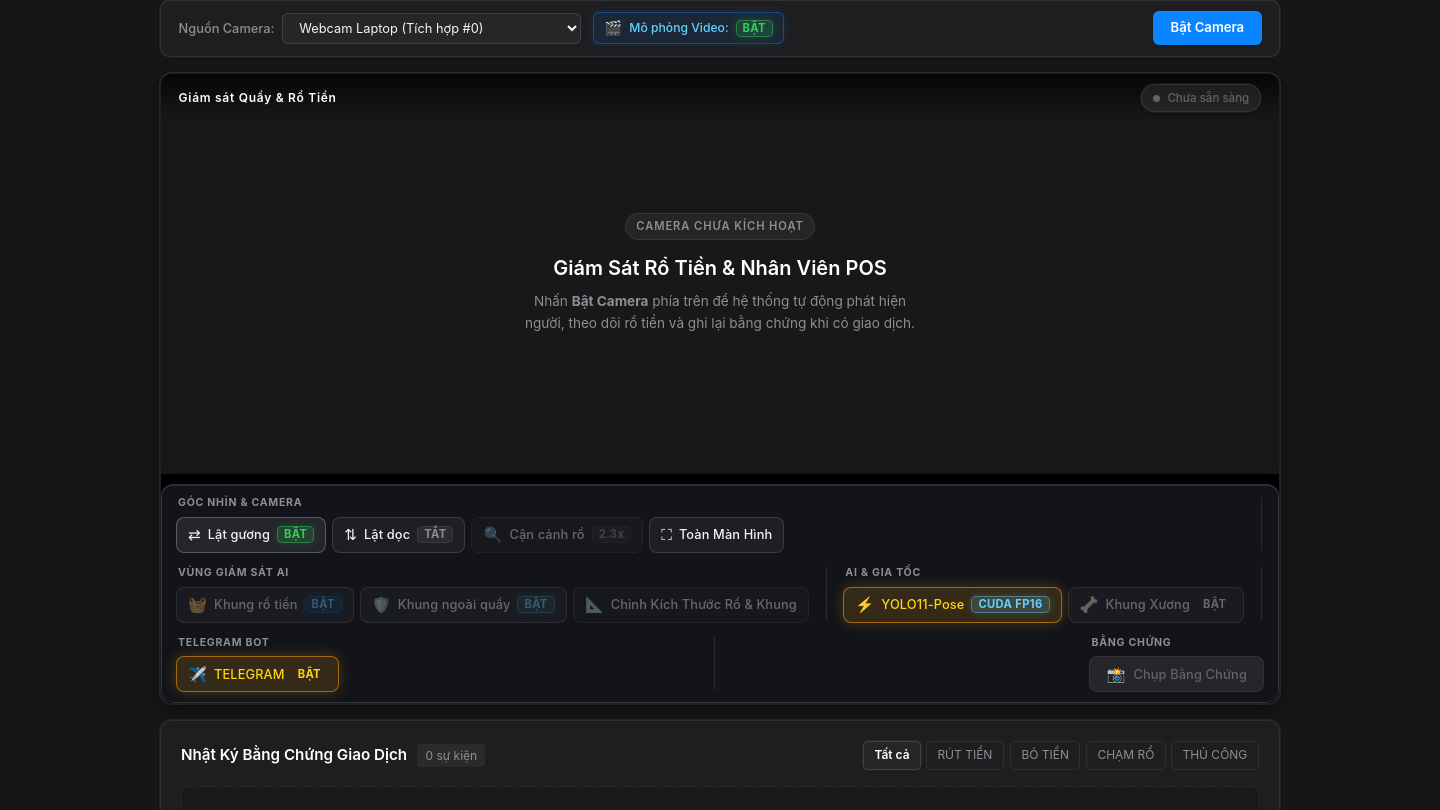
Test: LiveWebcam Component › switches source to RTSP and displays RTSP input drawer
The image size is (1440, 810).
Select "Luồng RTSP Đầu Ghi CCTV" in the dropdown at point(432, 28), box [282,13,581,44]
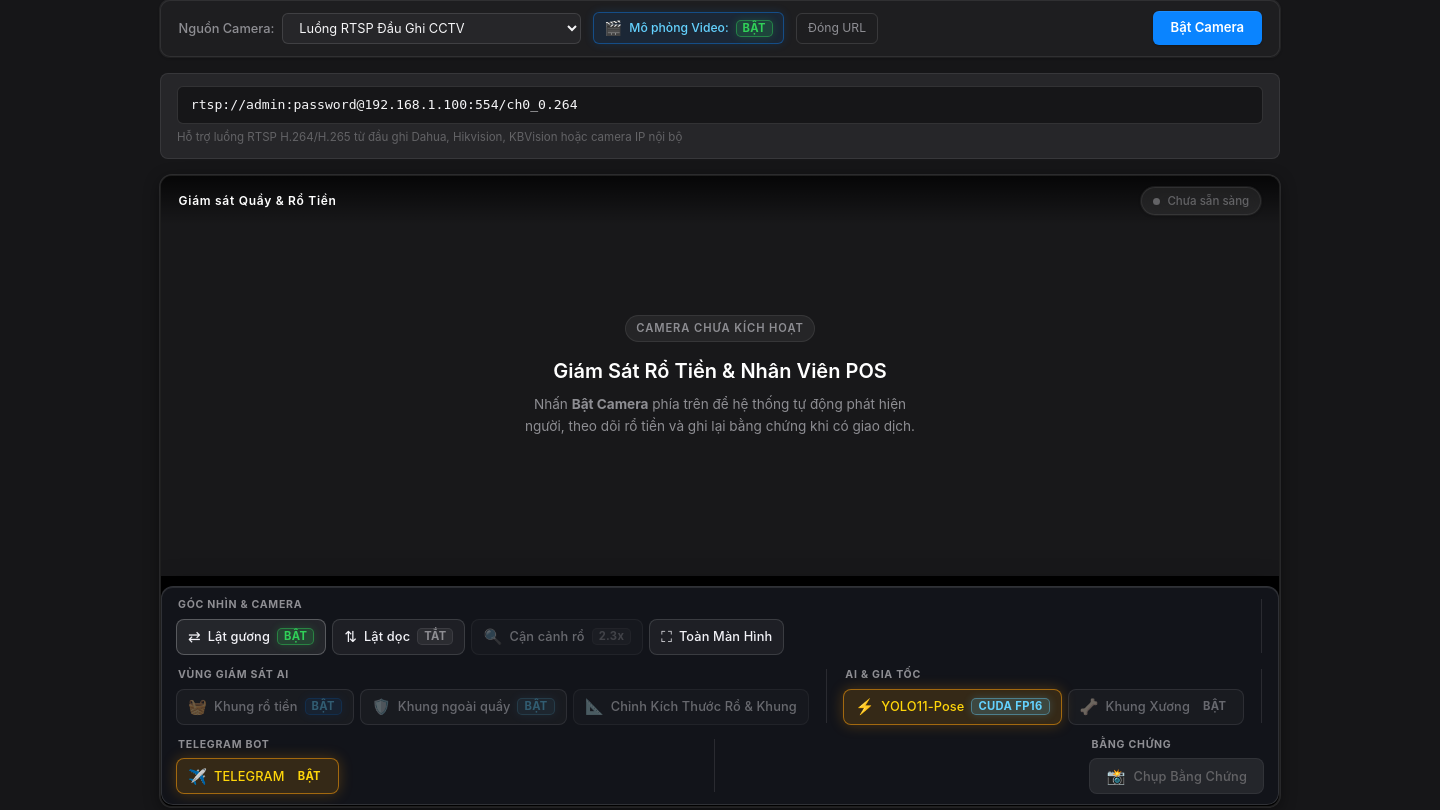
Expected: the field with placeholder "rtsp://admin:password@192.168.1.100:554/stream" is shown, [177,86,1263,124]
